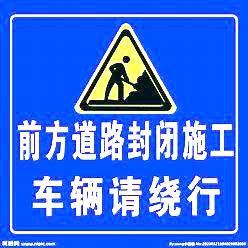sign: (7, 13, 242, 237)
